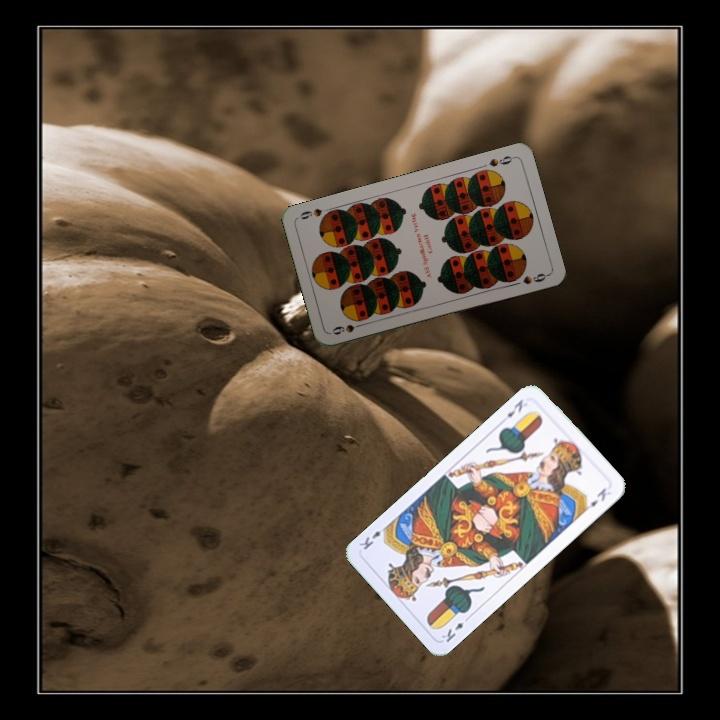EK: (437, 612, 473, 645), (503, 395, 526, 420)
S9: (328, 319, 368, 337), (485, 152, 517, 169)
